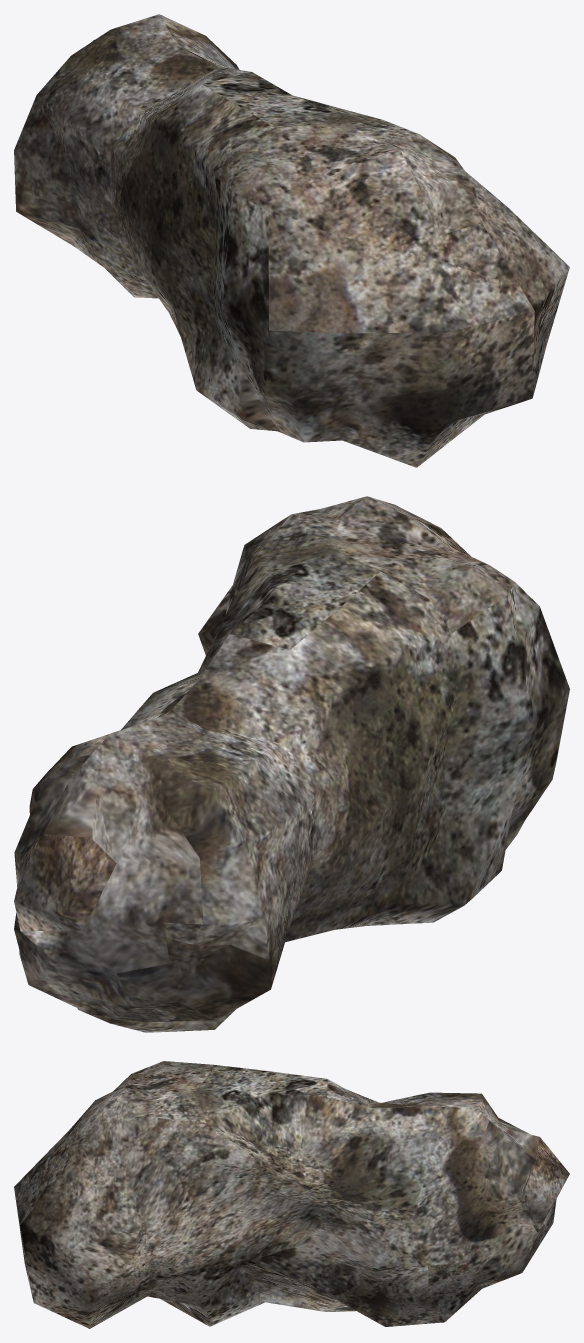
File: Rock_2x5_B.FBX
The picture shows the model from 3 angles, top to bottom: view 1: azimuth 30°, elevation 25°; view 2: azimuth 150°, elevation 25°; view 3: azimuth 270°, elevation 25°; orthographic projection. The views are drawn at different scales.
Parts seen in each view (by area): view 1: Rock_2x5_B; view 2: Rock_2x5_B; view 3: Rock_2x5_B.
Boxes of the visible parts, box(x1,y1,x2,y2) form: Rock_2x5_B: box(14, 14, 569, 467); Rock_2x5_B: box(14, 496, 569, 1032); Rock_2x5_B: box(14, 1061, 569, 1328).
Bounding box in the file's own units: 2.86 × 2.78 × 5.9.
Materials: 1 (1 with a texture image).
